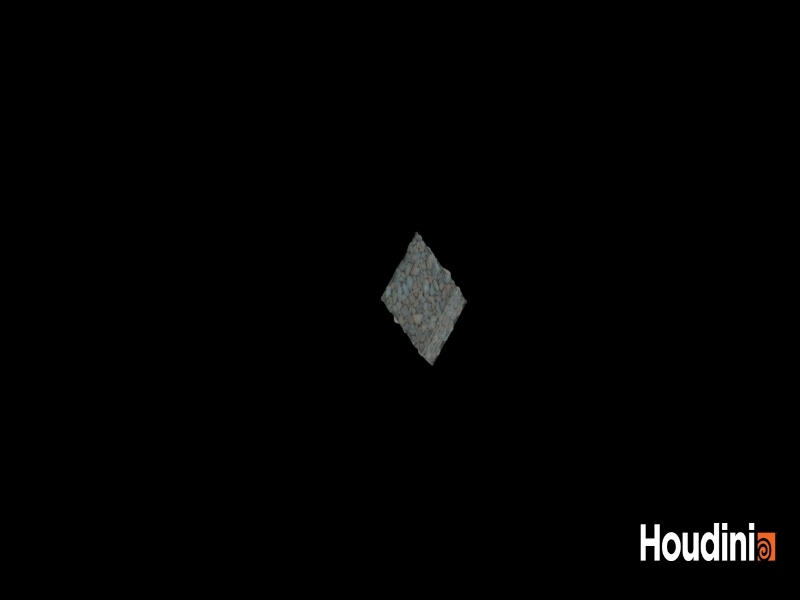waste: (356, 227, 497, 368)
